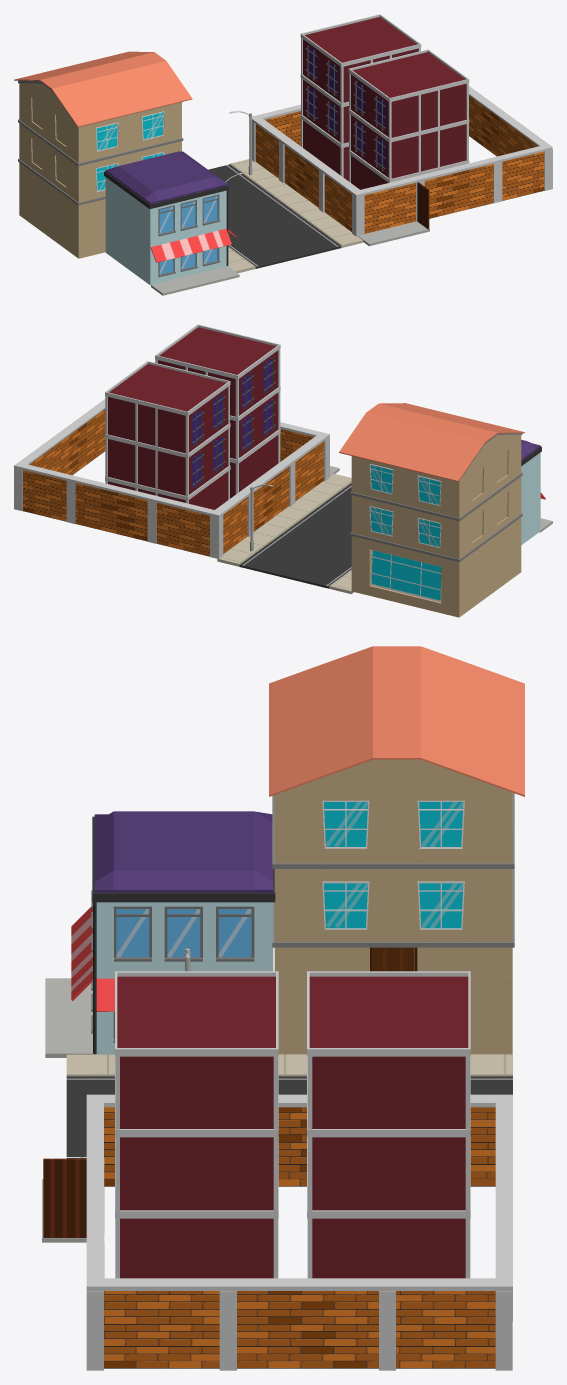
Rendered from CityPt1.fbx.
3 views of the same model, one above another, from view 1: azimuth 30°, elevation 25°; view 2: azimuth 150°, elevation 25°; view 3: azimuth 270°, elevation 25° (orthographic). The views are drawn at different scales.
Parts seen in each view (by area): view 1: Ed03, Ed01, Ed02, StreetCo, Piso01, PortaM; view 2: Ed03, Ed01, StreetCo, Ed02; view 3: Ed03, Ed01, Ed02, StreetCo, Piso01, PortaM.
Part boxes in pixels (x1=…): Ed03: x1=252, y1=14, x2=552, y2=236; Ed01: x1=14, y1=51, x2=192, y2=258; Ed02: x1=104, y1=151, x2=236, y2=285; StreetCo: x1=208, y1=159, x2=362, y2=273; Piso01: x1=151, y1=221, x2=429, y2=295; PortaM: x1=417, y1=182, x2=429, y2=229; Ed03: x1=14, y1=324, x2=329, y2=558; Ed01: x1=339, y1=403, x2=524, y2=617; StreetCo: x1=217, y1=473, x2=353, y2=594; Ed02: x1=521, y1=440, x2=545, y2=544; Ed03: x1=86, y1=971, x2=512, y2=1370; Ed01: x1=269, y1=646, x2=524, y2=1054; Ed02: x1=71, y1=811, x2=275, y2=1054; StreetCo: x1=66, y1=1054, x2=512, y2=1158; Piso01: x1=42, y1=978, x2=92, y2=1242; PortaM: x1=43, y1=1158, x2=86, y2=1237.
Bounding box in the file's own units: 33.32 × 11.51 × 16.22.
